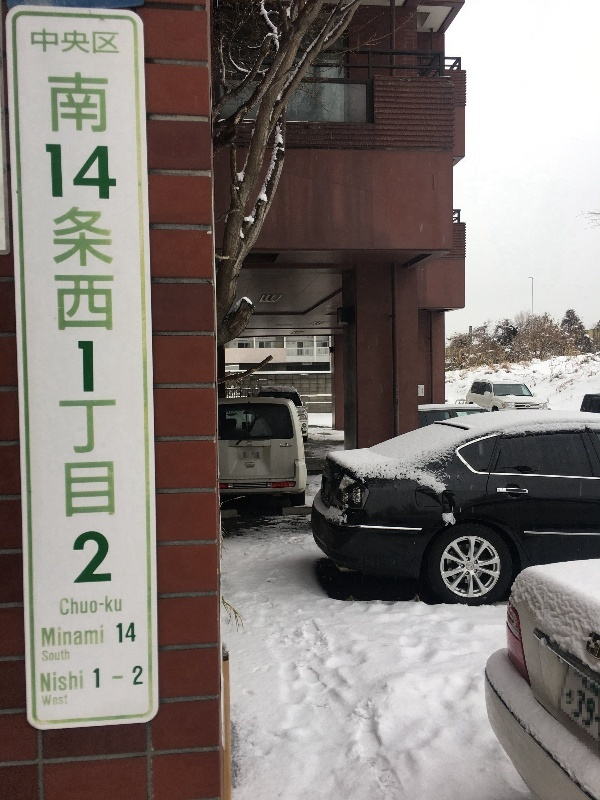text: (49, 71, 64, 586), (65, 71, 80, 586), (81, 71, 96, 586), (97, 71, 112, 586), (113, 71, 124, 586), (42, 71, 48, 586), (33, 29, 48, 54), (49, 29, 64, 54), (65, 29, 80, 54), (81, 29, 96, 54), (97, 29, 112, 54), (49, 670, 64, 693), (65, 670, 80, 693), (49, 625, 64, 647), (65, 625, 80, 647), (81, 625, 96, 647), (133, 664, 144, 689), (65, 598, 80, 616), (81, 598, 96, 616), (116, 622, 128, 644), (49, 649, 64, 663), (584, 676, 592, 699), (49, 694, 64, 706), (113, 29, 120, 54), (113, 595, 122, 613), (41, 670, 48, 693), (593, 676, 600, 699), (97, 625, 104, 647), (129, 622, 136, 644), (42, 625, 48, 647), (106, 595, 112, 613), (42, 649, 48, 663), (113, 676, 125, 683), (93, 667, 96, 694), (97, 667, 100, 694), (42, 694, 48, 706), (60, 598, 64, 616), (65, 649, 70, 663), (99, 603, 112, 607), (81, 670, 83, 693), (65, 694, 68, 706), (31, 29, 32, 54), (97, 598, 98, 616)
